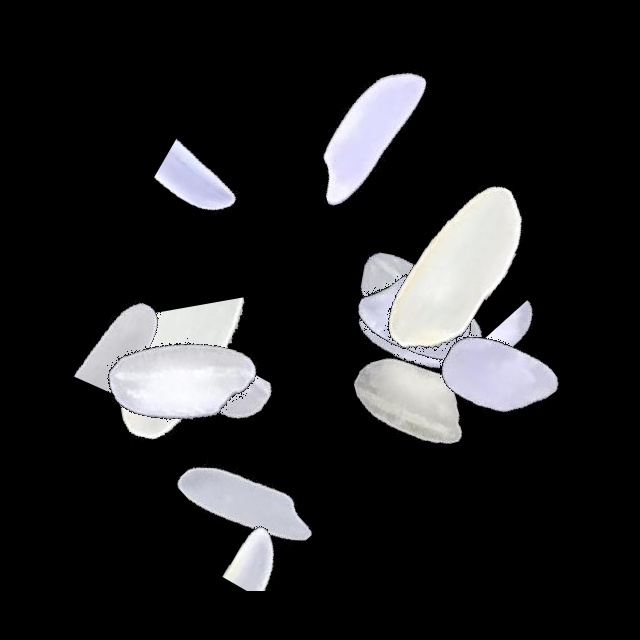Broken: (107, 266, 273, 516), (240, 269, 490, 424), (52, 192, 206, 442), (55, 342, 305, 478), (469, 251, 581, 501), (88, 128, 338, 238), (134, 511, 384, 591)
Full: (298, 183, 548, 433), (291, 189, 541, 439), (335, 147, 585, 397), (284, 279, 534, 529), (251, 12, 501, 262), (369, 248, 619, 498), (121, 378, 371, 628), (56, 257, 306, 507)
